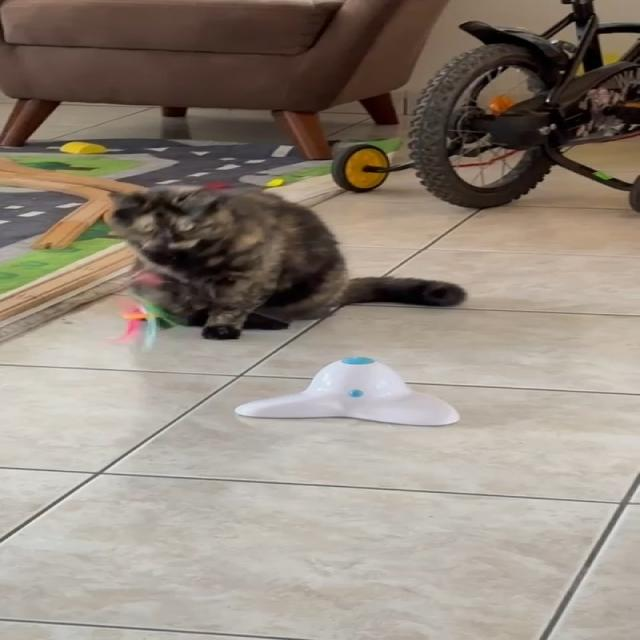authorized: (102, 183, 466, 340)
